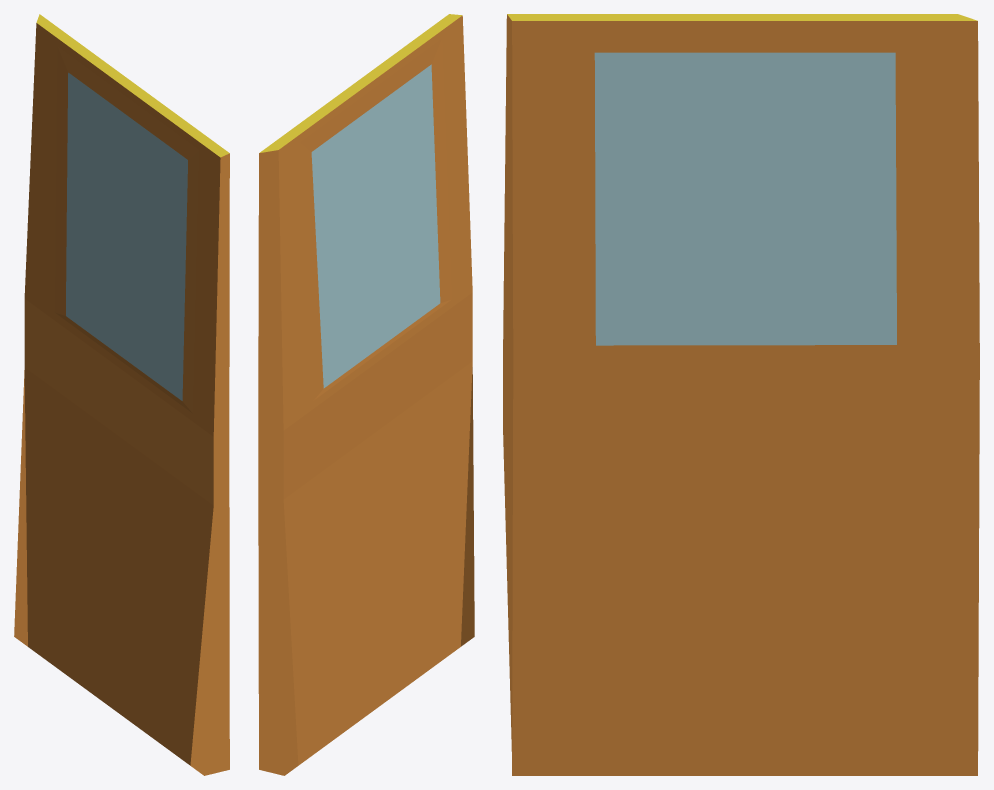
The model's file is bus_right_window.fbx.
3 renders of one model, left to right at view 1: azimuth 30°, elevation 25°; view 2: azimuth 150°, elevation 25°; view 3: azimuth 270°, elevation 25°, orthographic. The views are drawn at different scales.
Visible parts, largest first — view 1: Cube.052; view 2: Cube.052; view 3: Cube.052.
Part boxes in pixels (x1,y1,x2,y2): Cube.052: [14, 14, 229, 775]; Cube.052: [258, 14, 474, 775]; Cube.052: [503, 14, 979, 775].
Bounding box in the file's own units: 6.76 × 156 × 89.24.
